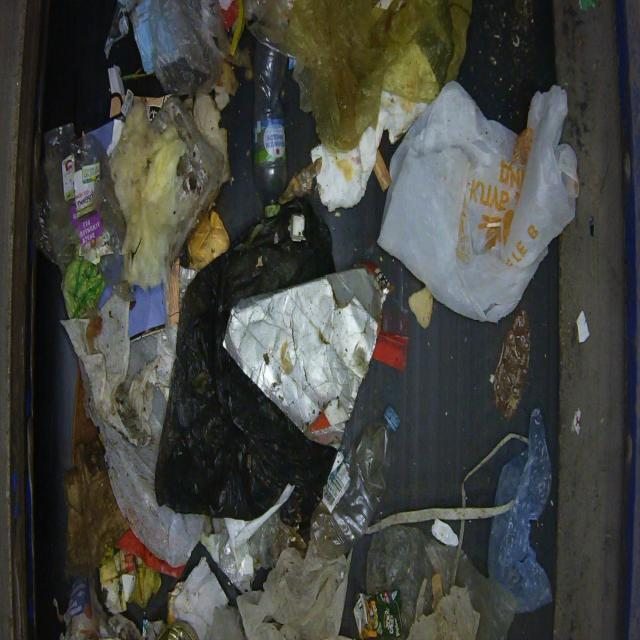bottles: (250, 38, 289, 202)
other-trash: (33, 1, 575, 638)
paper: (376, 79, 580, 324)
